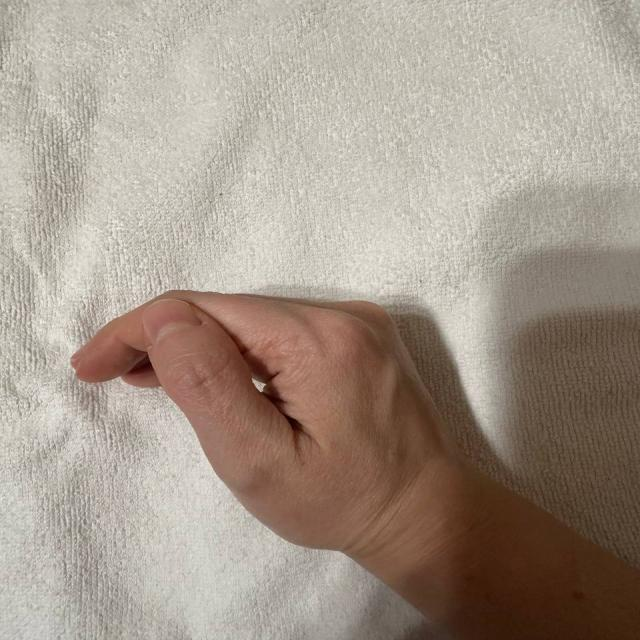f: (42, 287, 451, 555)
